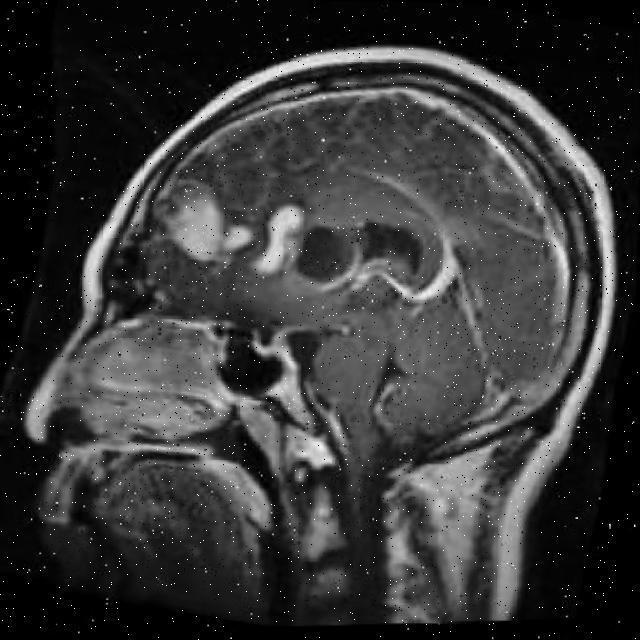LMCI: (144, 142, 267, 302), (248, 174, 320, 314)
